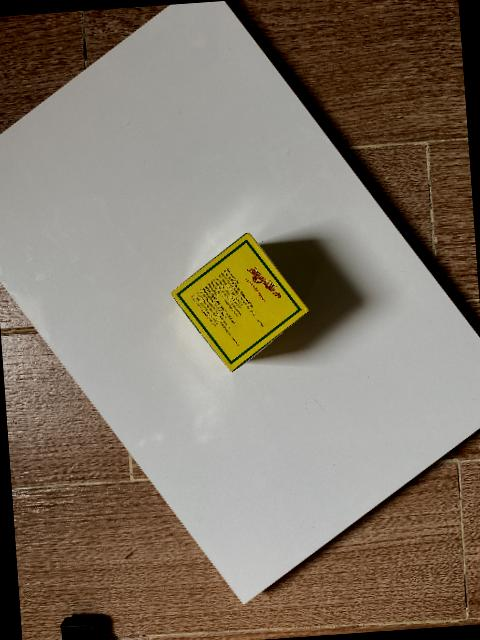luong_kho: (170, 232, 309, 372)
